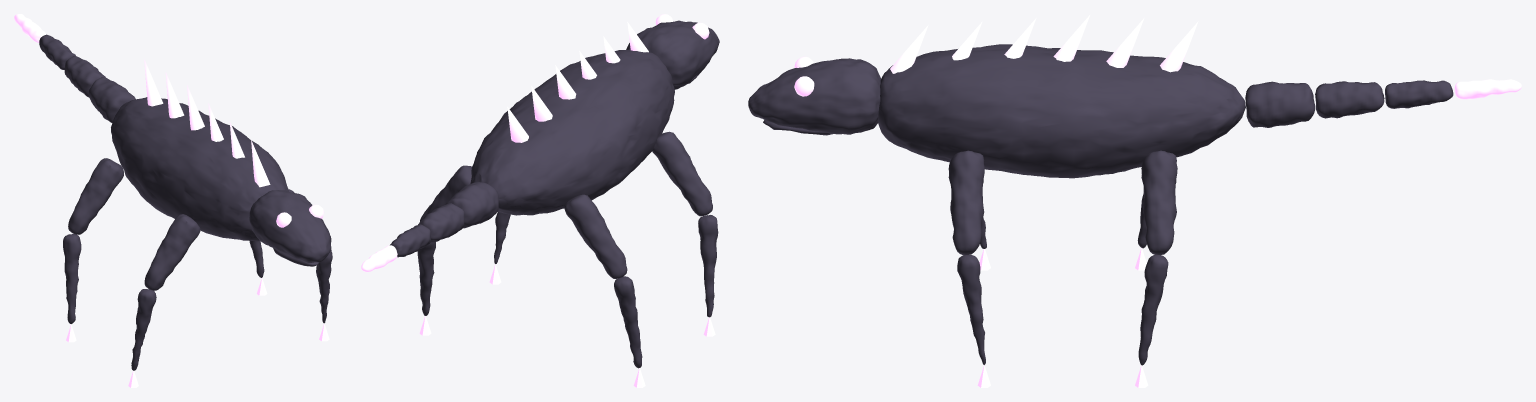
Rendered from creature_stalker.glb.
3 renders of one model, left to right at view 1: azimuth 30°, elevation 25°; view 2: azimuth 150°, elevation 25°; view 3: azimuth 270°, elevation 25°, orthographic. The views are drawn at different scales.
Parts seen in each view (by area): view 1: b, h, u.001 (×2), spines, t, l.001, l, t.001, t.002, l.002, tail_3, l.003; view 2: b, u.001 (×2), h, spines, t, l, l.001, t.001, l.003, t.002, u.003, tail_3 (+1 smaller); view 3: b, h, spines, u.003, u.002, t, t.001, l.003, t.002, l.002, tail_3.
Part boxes in pixels (x1,y1,x2,y2): b: (111,97,288,241); h: (249,190,331,262); u.001 (×2): (68,158,200,290); spines: (144,59,270,187); t: (88,77,135,122); l.001: (63,234,81,323); l: (131,289,156,370); t.001: (64,56,105,97); t.002: (39,34,75,69); l.002: (316,249,332,323); tail_3: (14,14,45,42); l.003: (249,240,264,277); b: (470,49,674,215); u.001 (×2): (564,131,712,278); h: (626,20,719,89); spines: (507,22,648,142); t: (445,182,498,228); l: (698,215,718,317); l.001: (614,276,642,368); t.001: (418,203,464,242); l.003: (417,242,435,315); t.002: (390,224,430,257); u.003: (420,165,471,221); tail_3: (361,245,397,272); b: (878,44,1245,178); h: (748,58,880,134); spines: (890,15,1198,73); u.003: (1141,150,1177,255); u.002: (948,150,984,255); t: (1245,81,1315,127); t.001: (1315,81,1384,118); l.003: (1138,254,1168,365); t.002: (1385,80,1453,108); l.002: (957,255,985,364); tail_3: (1454,79,1521,99).
Size of the model in its own units: 1.5 by 1.79 by 4.01.
